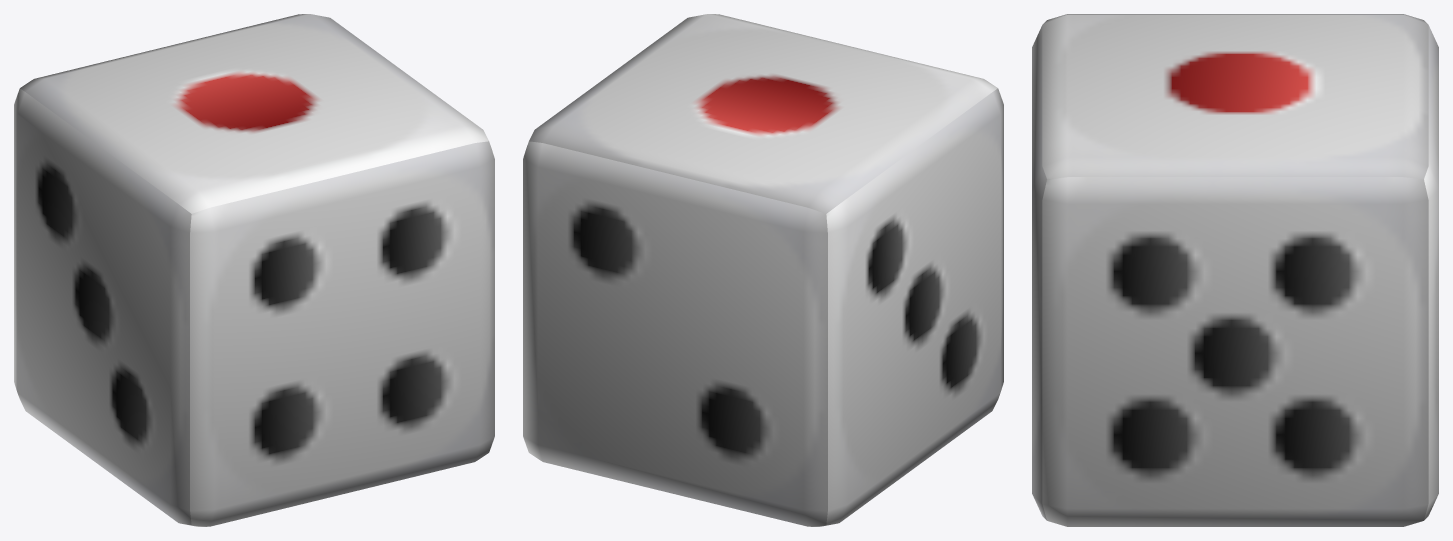
File: Dado.obj
3 renders of one model, left to right at view 1: azimuth 30°, elevation 25°; view 2: azimuth 150°, elevation 25°; view 3: azimuth 270°, elevation 25°, orthographic. The views are drawn at different scales.
Parts seen in each view (by area): view 1: Dado; view 2: Dado; view 3: Dado.
Part boxes in pixels (x1,y1,x2,y2): Dado: [14, 14, 494, 526]; Dado: [523, 14, 1003, 526]; Dado: [1032, 14, 1438, 526].
Bounding box in the file's own units: 0.0216 × 0.0216 × 0.0216.
1 material, 1 textured.
